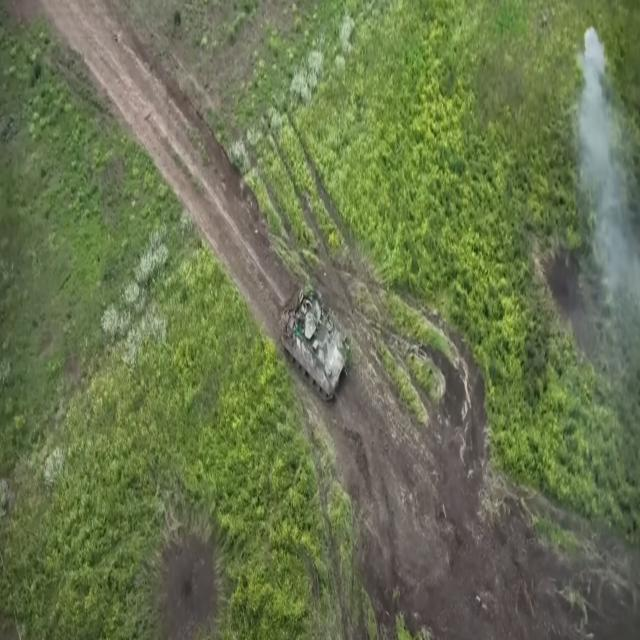AIFV: (281, 278, 353, 410)
